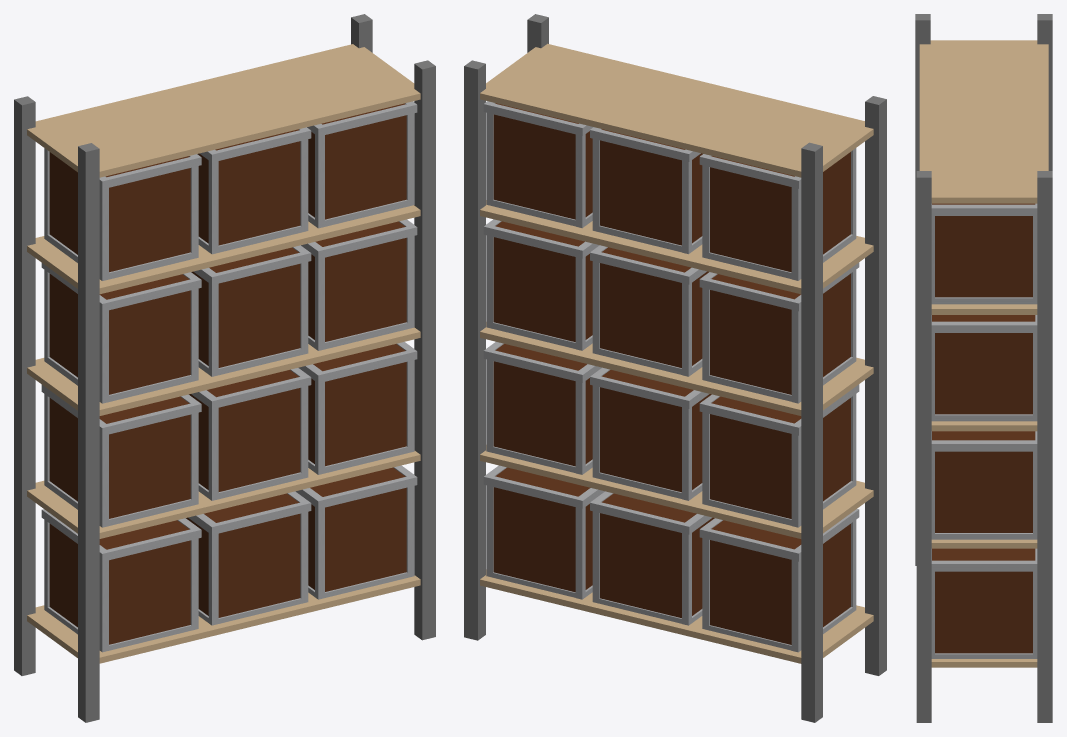
The model's file is StorageShelvesWithBoxes.fbx.
3 renders of one model, left to right at view 1: azimuth 30°, elevation 25°; view 2: azimuth 150°, elevation 25°; view 3: azimuth 270°, elevation 25°, orthographic. The views are drawn at different scales.
Visible parts, largest first — view 1: Cube.012, Cube.041, Cube.028, Cube.040, Cube.016, Cube.057, Cube.045, Cube.032, Cube.020, Cube.004, Cube.036, Cube.049 (+36 smaller); view 2: Cube.012, Cube.041, Cube.016, Cube.040, Cube.028, Cube.057, Cube.045, Cube.032, Cube.020, Cube.004, Cube.011, Cube.036 (+36 smaller); view 3: Cube.041, Cube.012, Cube.049, Cube.011, Cube.024, Cube.036, Cube.005, Cube.021, Cube.033, Cube.046, Cube.048, Cube.047 (+9 smaller).
Boxes of the visible parts, box(x1,y1,x2,y2) form: Cube.012: box(14, 14, 435, 722); Cube.041: box(27, 44, 420, 177); Cube.028: box(49, 398, 190, 518); Cube.040: box(49, 524, 190, 644); Cube.016: box(49, 274, 190, 394); Cube.057: box(49, 152, 190, 272); Cube.045: box(186, 514, 300, 617); Cube.032: box(189, 388, 300, 491); Cube.020: box(191, 264, 300, 367); Cube.004: box(197, 141, 300, 245); Cube.036: box(308, 362, 406, 466); Cube.049: box(308, 487, 406, 591); Cube.012: box(464, 14, 886, 722); Cube.041: box(480, 43, 873, 177); Cube.016: box(710, 273, 850, 394); Cube.040: box(710, 524, 850, 644); Cube.028: box(710, 398, 850, 518); Cube.057: box(710, 152, 850, 272); Cube.045: box(600, 513, 714, 618); Cube.032: box(600, 387, 711, 492); Cube.020: box(600, 263, 708, 367); Cube.004: box(600, 140, 702, 245); Cube.011: box(493, 114, 592, 219); Cube.036: box(493, 361, 592, 466); Cube.041: box(919, 40, 1048, 203); Cube.012: box(915, 14, 1052, 722); Cube.049: box(935, 571, 1032, 653); Cube.011: box(935, 216, 1032, 297); Cube.024: box(935, 333, 1032, 414); Cube.036: box(935, 451, 1032, 532); Cube.005: box(931, 216, 1037, 304); Cube.021: box(931, 333, 1037, 421); Cube.033: box(931, 451, 1037, 539); Cube.046: box(931, 571, 1037, 658); Cube.048: box(932, 548, 1035, 560); Cube.047: box(931, 548, 1037, 571).
Bounding box in the file's own units: 1274 × 1982 × 451.
